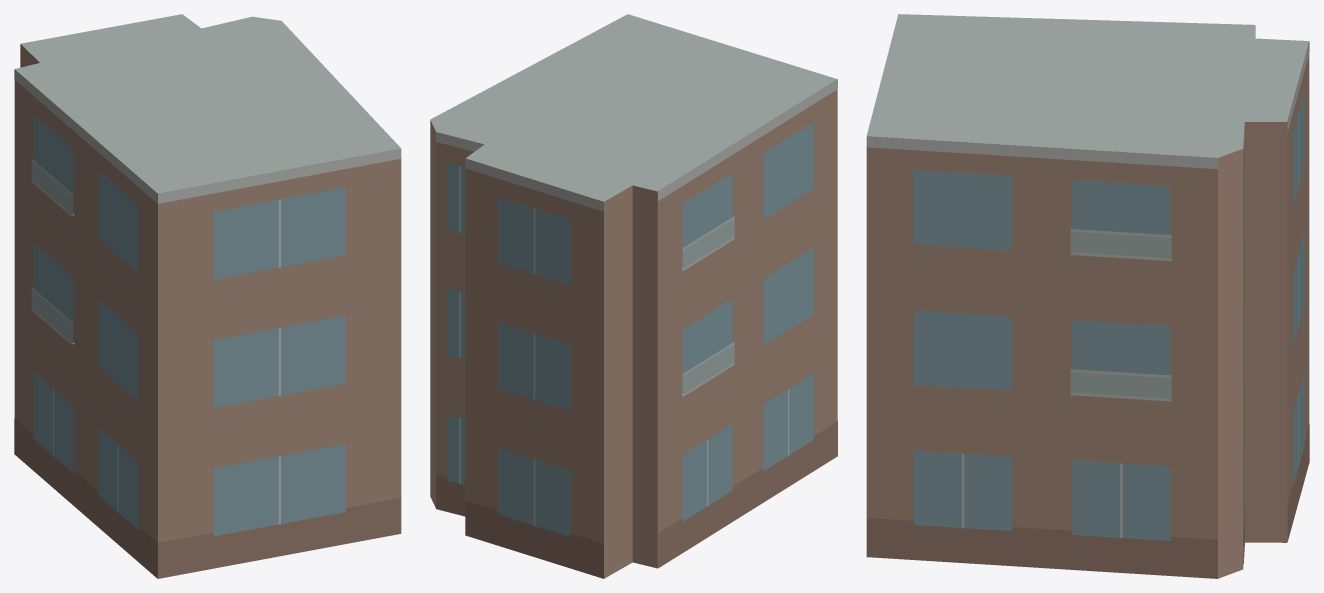
Rendered from survey-upis-32686184.glb.
The picture shows the model from 3 angles, left to right: view 1: azimuth 30°, elevation 25°; view 2: azimuth 150°, elevation 25°; view 3: azimuth 270°, elevation 25°; orthographic projection. The views are drawn at different scales.
Visible parts, largest first — view 1: survey-upis-32686184.tmp; view 2: survey-upis-32686184.tmp; view 3: survey-upis-32686184.tmp.
Part boxes in pixels (x1,y1,x2,y2): survey-upis-32686184.tmp: [14, 14, 401, 578]; survey-upis-32686184.tmp: [430, 14, 837, 578]; survey-upis-32686184.tmp: [866, 14, 1309, 578].
Size of the model in its own units: 6.76 by 9.2 by 8.79.
